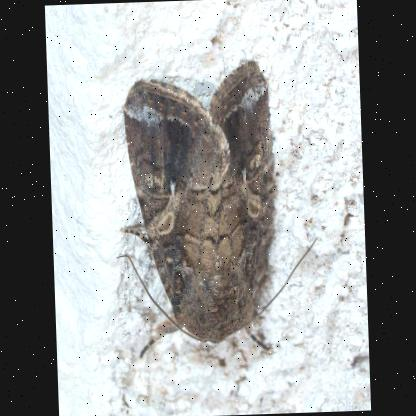Fall Armyworm Moth: (107, 55, 323, 363)
